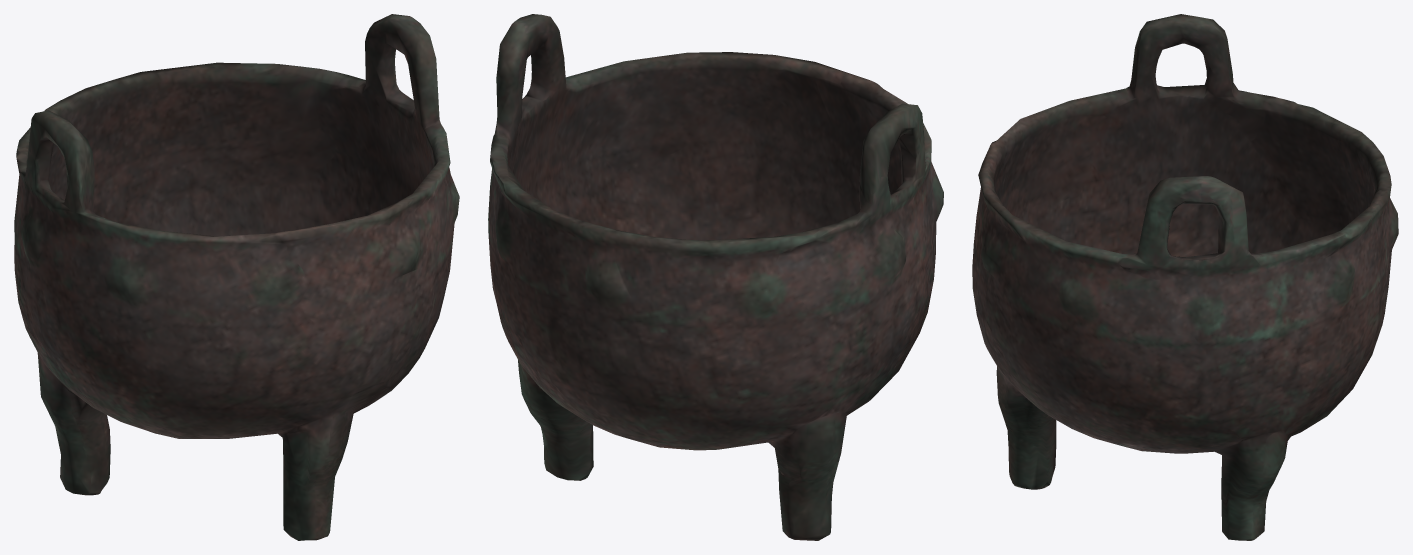
File: Vessel 2.fbx
3 views of the same model, side by side, from view 1: azimuth 30°, elevation 25°; view 2: azimuth 150°, elevation 25°; view 3: azimuth 270°, elevation 25° (orthographic). The views are drawn at different scales.
Visible parts, largest first — view 1: Vessel_2; view 2: Vessel_2; view 3: Vessel_2.
Boxes of the visible parts, x1,y1,x2,y2 form: Vessel_2: (14, 14, 459, 540); Vessel_2: (488, 14, 943, 540); Vessel_2: (972, 14, 1398, 540).
Size of the model in its own units: 61.6 by 62.48 by 60.97.
Materials: 1 (1 with a texture image).
